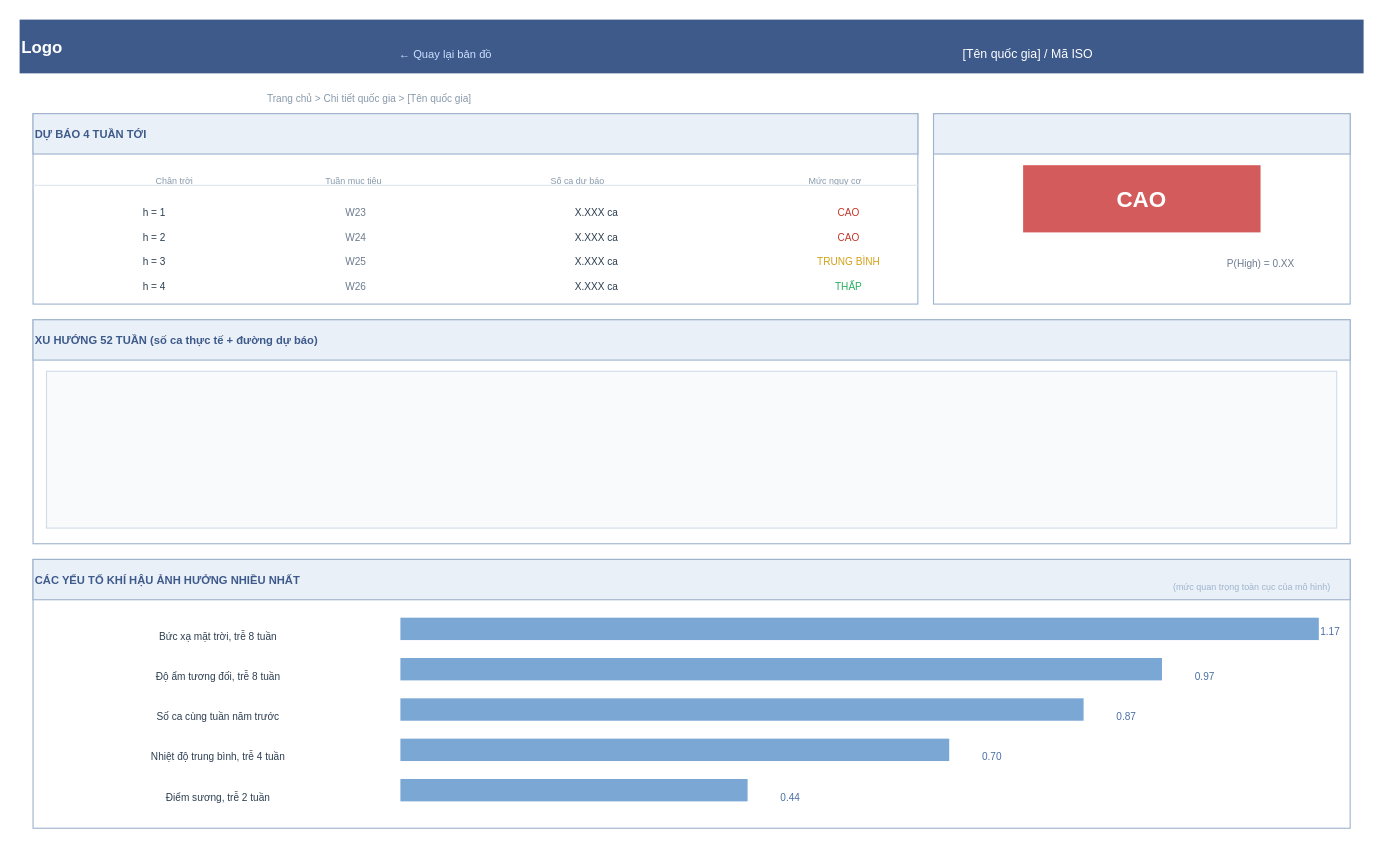
This 1398x848 diagram has some shape labels left out. The centre of each missing label's shape, as x and y in pixels:
"[Biểu đồ đường: —— Thực tế - - - Dự báo │ ranh giới dự báo]" goes at [691,449].
"MỨC NGUY CƠ HIỆN TẠI" goes at [1141,133].
